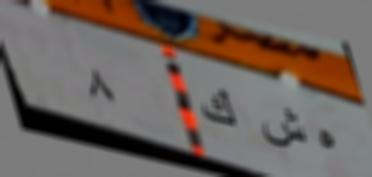8: (81, 61, 116, 116)
haa: (312, 116, 338, 164)
kaaf: (196, 77, 240, 141)
sheen: (258, 100, 309, 169)
